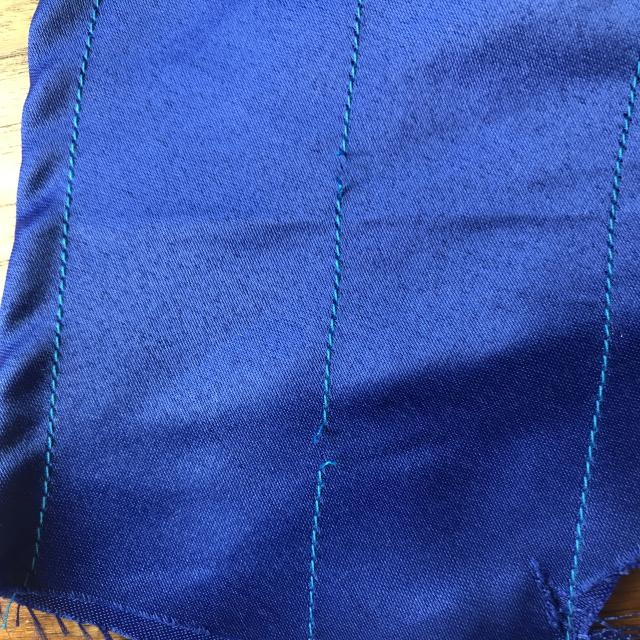broken: (299, 133, 371, 228), (296, 409, 364, 492)
good: (319, 248, 371, 371)
